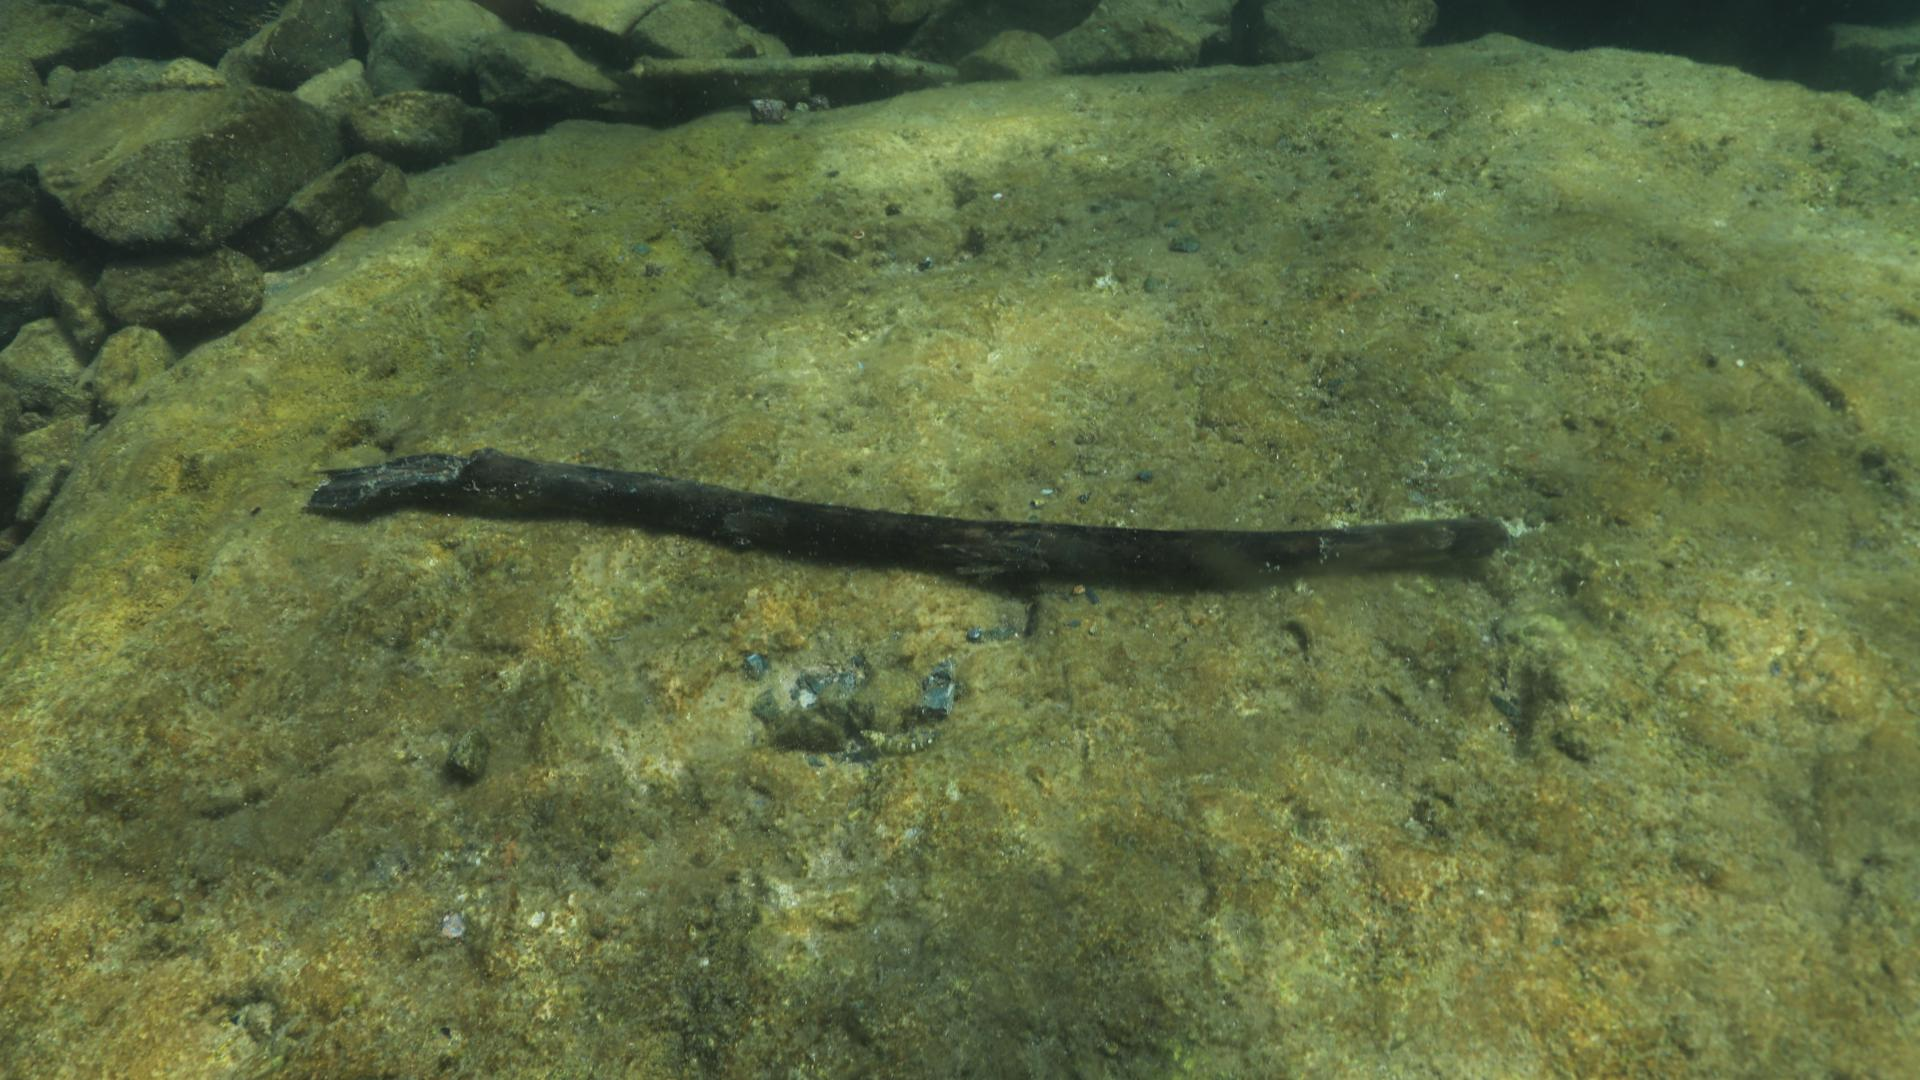wood: (301, 443, 1509, 574)
